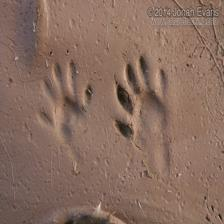raccoon: (112, 54, 174, 162), (35, 61, 97, 146)
